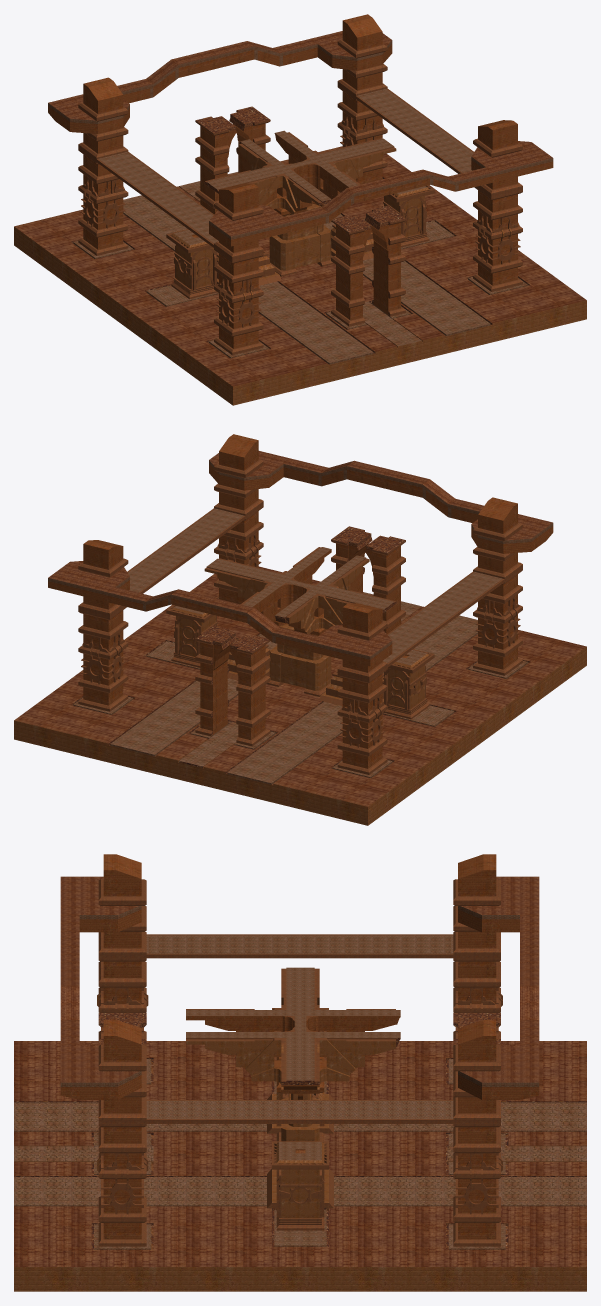
The model's file is Forgotten_Base3.fbx.
3 renders of one model, top to bottom at view 1: azimuth 30°, elevation 25°; view 2: azimuth 150°, elevation 25°; view 3: azimuth 270°, elevation 25°, orthographic. The views are drawn at different scales.
Visible parts, largest first — view 1: Object; view 2: Object; view 3: Object.
Boxes of the visible parts, x1,y1,x2,y2 form: Object: (14,14,586,405); Object: (14,434,586,825); Object: (14,854,586,1291).
Bounding box in the file's own units: 22400 × 10800 × 24000.
